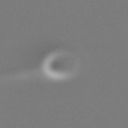normal: (1, 64, 42, 87)
